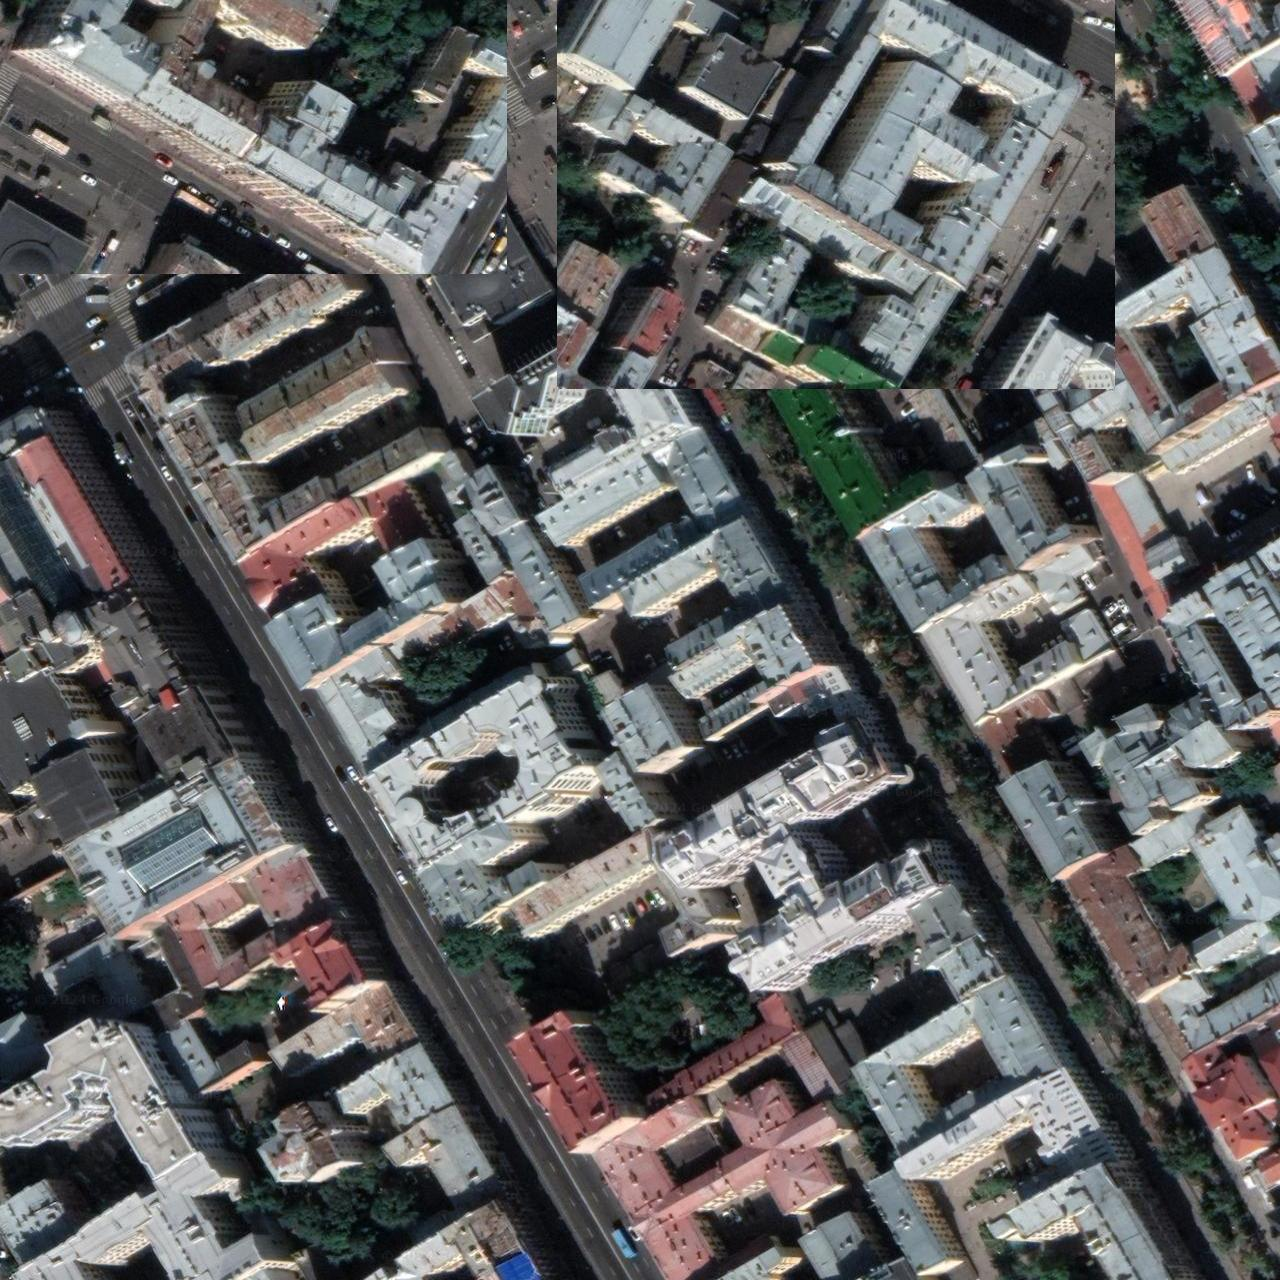greenery: (668, 287, 1280, 1280), (998, 0, 1280, 343)
house: (115, 192, 1167, 1280), (0, 421, 550, 1280), (862, 193, 1280, 1264), (557, 0, 1115, 389)
